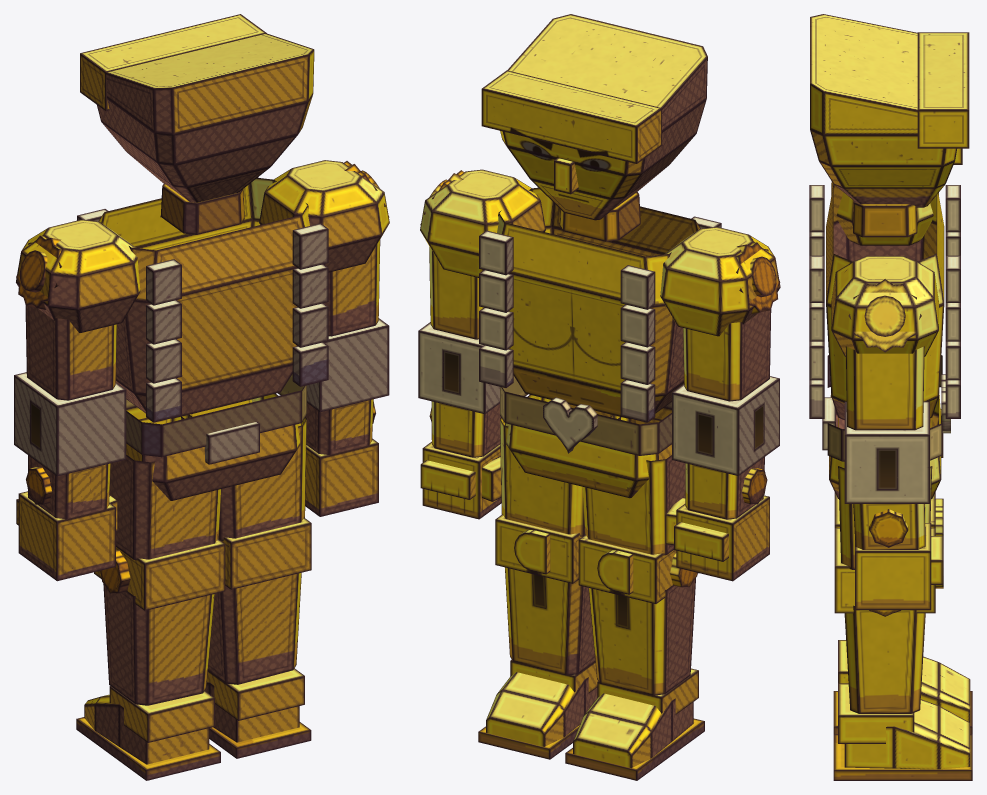
The model's file is stand_static.obj.
3 renders of one model, left to right at view 1: azimuth 30°, elevation 25°; view 2: azimuth 150°, elevation 25°; view 3: azimuth 270°, elevation 25°, orthographic. The views are drawn at different scales.
Visible parts, largest first — view 1: StandStatic; view 2: StandStatic; view 3: StandStatic.
Part boxes in pixels (x1=…): StandStatic: x1=14, y1=14, x2=389, y2=780; StandStatic: x1=418, y1=14, x2=780, y2=780; StandStatic: x1=809, y1=14, x2=972, y2=780.
Bounding box in the file's own units: 0.9043 × 1.7 × 0.364.
Materials: 1 (1 with a texture image).
